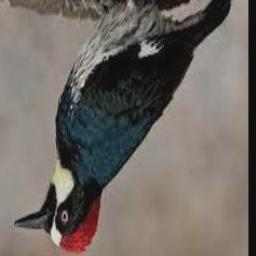Woodpecker: (13, 0, 245, 255)
